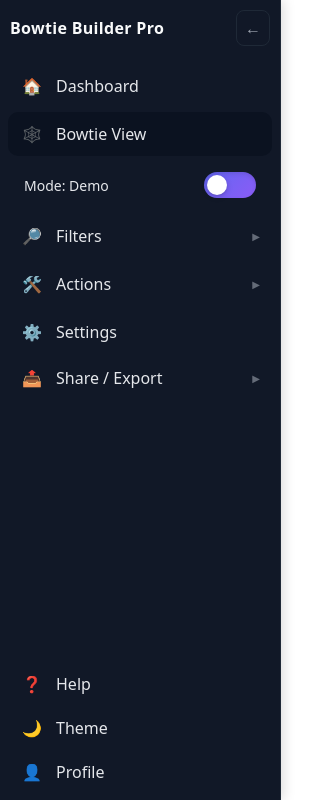
Scenario: Sidebar inline dropdown panels › opens filters dropdown when filters button is clicked
Step 1. Click the button with aria-label "toggle filters panel" → click(79, 236), box [8, 214, 272, 258]
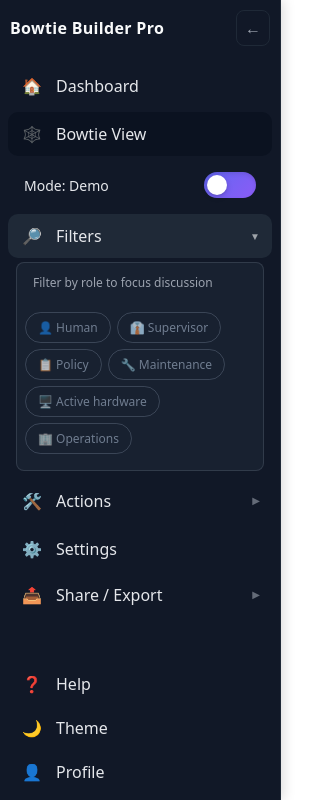
Result: the element named "filters" is shown at [16, 262, 264, 471]
Result: the button with aria-label "toggle filters panel" is expanded at [8, 214, 272, 258]
